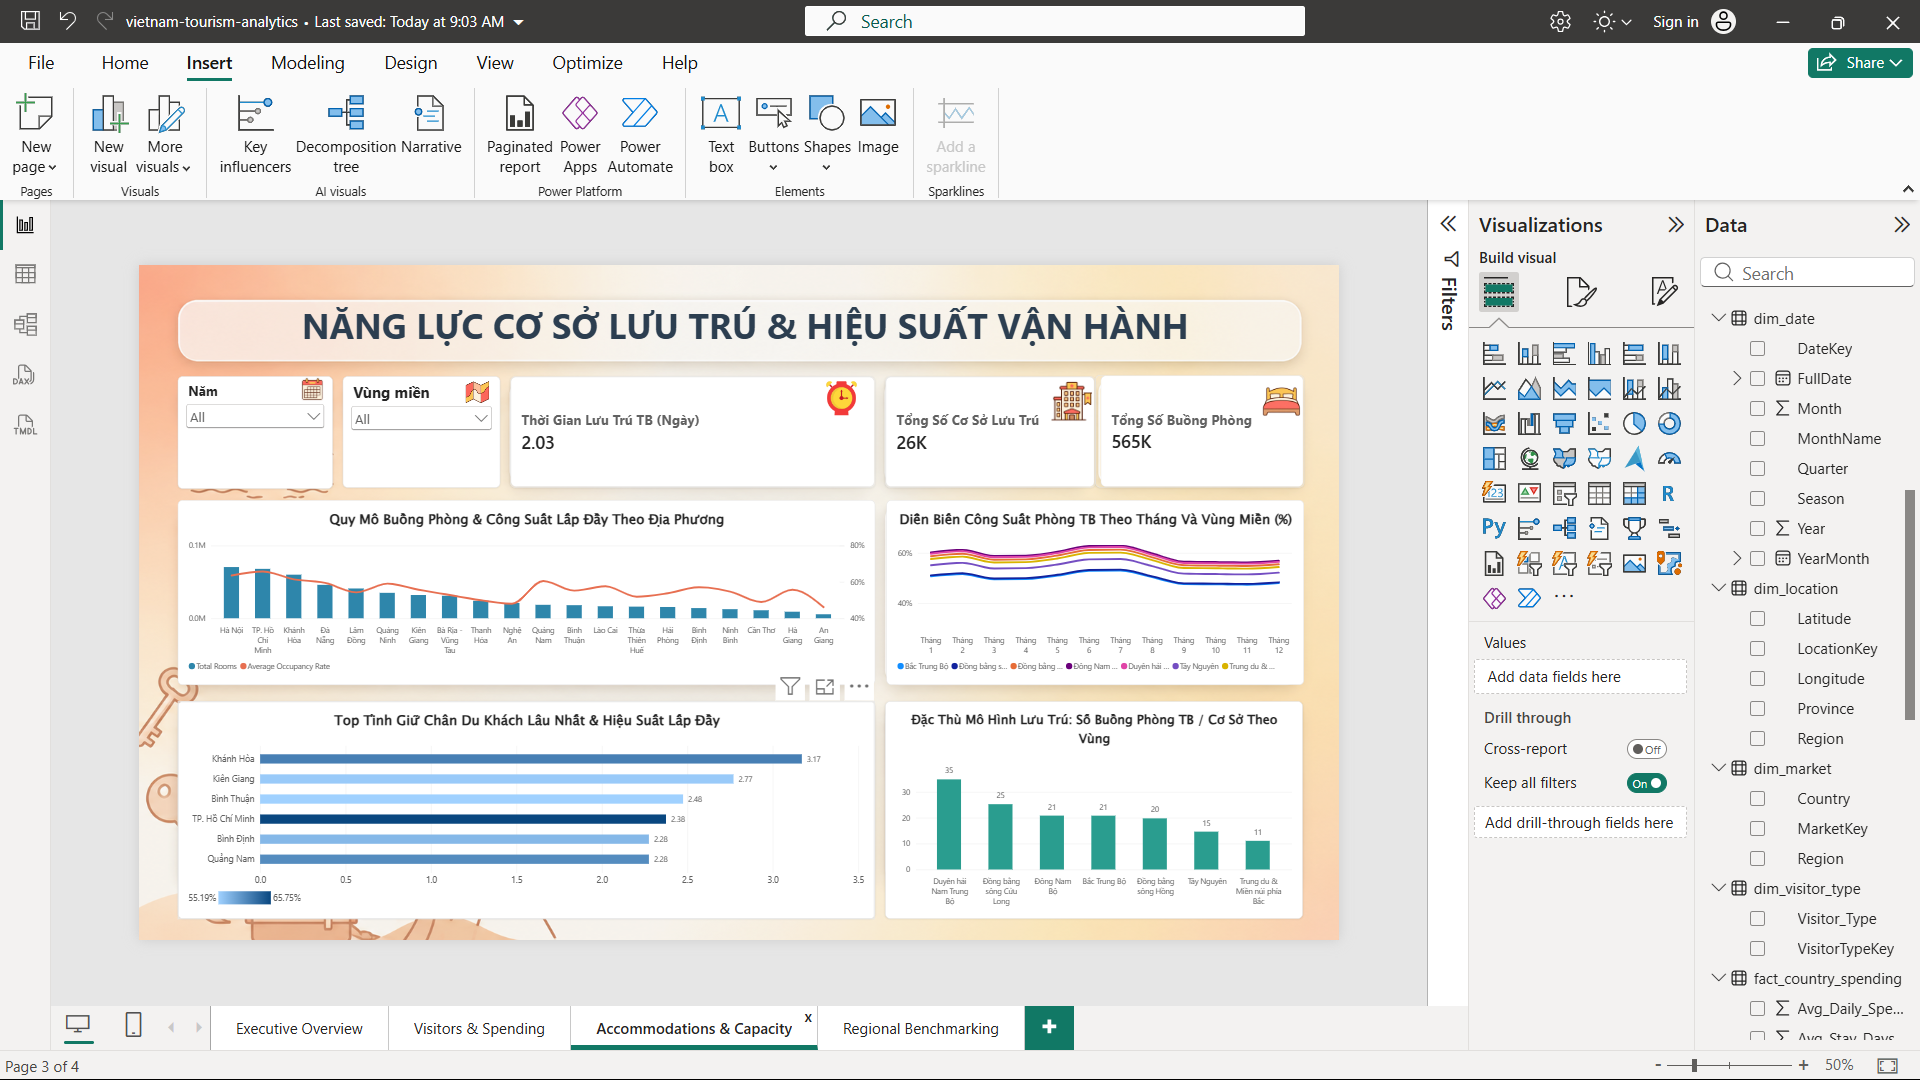

The dashboard page shown, as its layout file describes it:
{"tool":"powerbi","page":{"name":"Accommodations & Capacity","canvas":[1920,1080],"ordinal":2},"visuals":[{"type":"slicer","fields":{"Values":["dim_date.Year"]},"box":[62,178,248,180],"z":0},{"type":"slicer","fields":{"Values":["dim_location.Region"]},"box":[326,178,252,178],"z":1000},{"type":"cardVisual","fields":{"Data":["_Measures.Total Accommodations"]},"box":[1194,178,336,178],"z":2000},{"type":"cardVisual","fields":{"Data":["_Measures.Total Rooms"]},"box":[1530,176,334,180],"z":3000},{"type":"cardVisual","fields":{"Data":["_Measures.Average Length of Stay (Days)"]},"box":[594,178,584,178],"z":4000},{"type":"lineClusteredColumnComboChart","title":"Quy Mô Buồng Phòng & Công Suất Lấp Đầy Theo Địa Phương","fields":{"Category":["dim_location.Province"],"Y":["_Measures.Total Rooms"],"Y2":["_Measures.Average Occupancy Rate"]},"box":[62,376,1116,296],"z":5000},{"type":"lineChart","title":"Diễn Biến Công Suất Phòng TB Theo Tháng Và Vùng Miền (%)    ","fields":{"Category":["dim_date.MonthName"],"Series":["dim_location.Region"],"Y":["_Measures.Average Occupancy Rate"]},"box":[1196,376,668,296],"z":6000},{"type":"clusteredBarChart","title":"Top Tỉnh Giữ Chân Du Khách Lâu Nhất & Hiệu Suất Lấp Đầy","fields":{"Category":["dim_location.Province"],"Y":["_Measures.Average Length of Stay (Days)"]},"box":[62,698,1116,348],"z":7000},{"type":"clusteredColumnChart","title":"Đặc Thù Mô Hình Lưu Trú: Số Buồng Phòng TB / Cơ Sở Theo Vùng            ","fields":{"Category":["dim_location.Region"],"Y":["_Measures.Avg Rooms Per Accommodation"]},"box":[1194,698,668,348],"z":8000},{"type":"textbox","box":[62,58,1816,104],"z":9000},{"type":"image","box":[242,174,72,44],"z":10000},{"type":"image","box":[494,182,96,44],"z":11000},{"type":"image","box":[1422,180,142,76],"z":12000},{"type":"image","box":[1794,178,68,76],"z":13000},{"type":"image","box":[1086,186,76,54],"z":14000}]}

Visuals, with their boxes on the page's 1920x1080 design canvas (x1, y1, x2, y2). These are canvas units, not pixel positions in the 1920x1080 screenshot, which may show the page scaled, cropped or inside an application window:
slicer - dim_date.Year: [62,178,310,358]
slicer - dim_location.Region: [326,178,578,356]
cardVisual - _Measures.Total Accommodations: [1194,178,1530,356]
cardVisual - _Measures.Total Rooms: [1530,176,1864,356]
cardVisual - _Measures.Average Length of Stay (Days): [594,178,1178,356]
"Quy Mô Buồng Phòng & Công Suất Lấp Đầy Theo Địa Phương" lineClusteredColumnComboChart: [62,376,1178,672]
"Diễn Biến Công Suất Phòng TB Theo Tháng Và Vùng Miền (%)    " lineChart: [1196,376,1864,672]
"Top Tỉnh Giữ Chân Du Khách Lâu Nhất & Hiệu Suất Lấp Đầy" clusteredBarChart: [62,698,1178,1046]
"Đặc Thù Mô Hình Lưu Trú: Số Buồng Phòng TB / Cơ Sở Theo Vùng            " clusteredColumnChart: [1194,698,1862,1046]
textbox: [62,58,1878,162]
image: [242,174,314,218]
image: [494,182,590,226]
image: [1422,180,1564,256]
image: [1794,178,1862,254]
image: [1086,186,1162,240]
